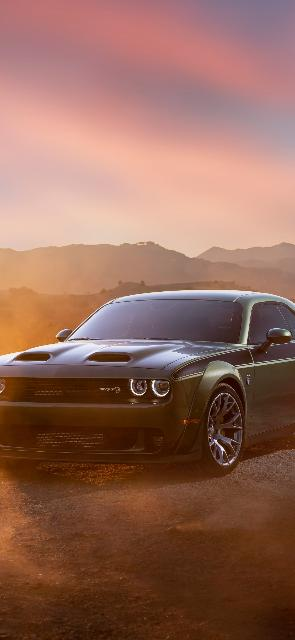dodge: (0, 289, 295, 475)
